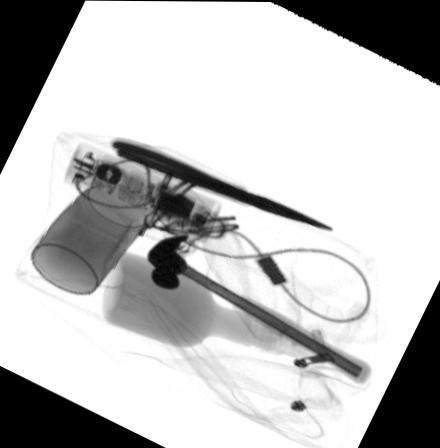Hammer: (147, 235, 371, 384)
Pliers: (109, 137, 333, 231)
